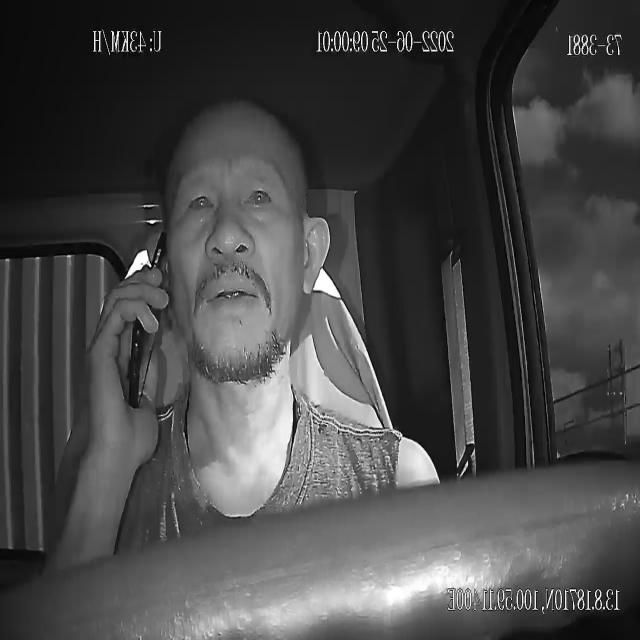phone: (127, 229, 170, 414)
